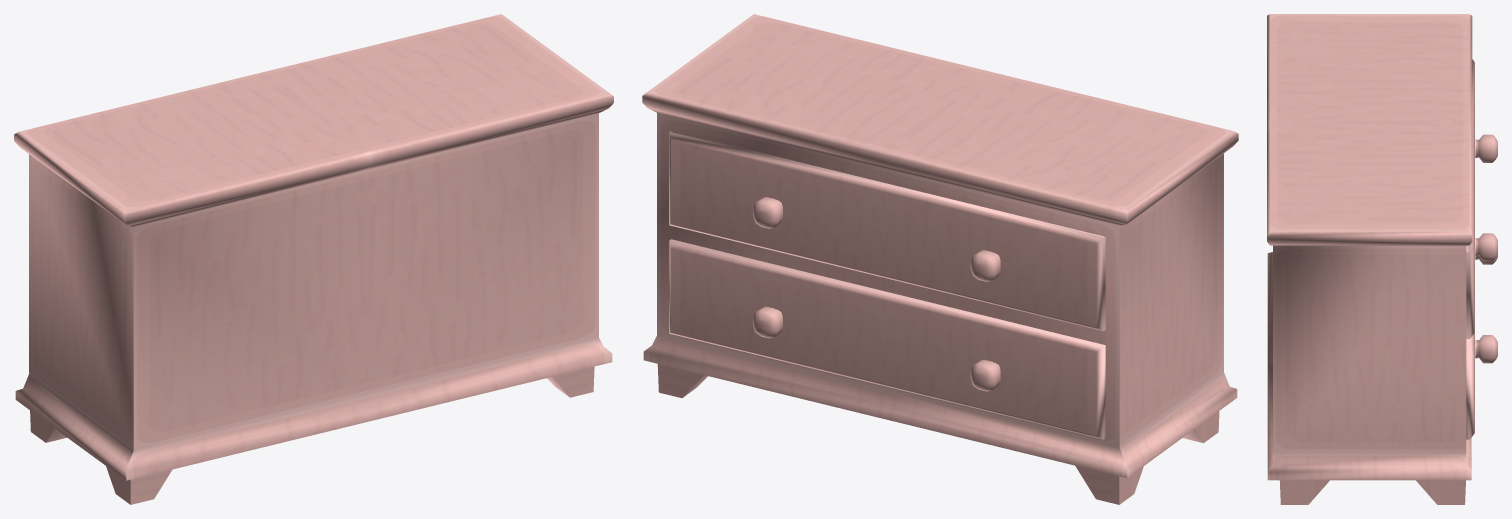
File: Anim.fbx
3 renders of one model, left to right at view 1: azimuth 30°, elevation 25°; view 2: azimuth 150°, elevation 25°; view 3: azimuth 270°, elevation 25°, orthographic. The views are drawn at different scales.
Parts seen in each view (by area): view 1: Drawers; view 2: Drawers, Draw; view 3: Drawers, Draw.
Part boxes in pixels (box(x1,y1,x2,y2)): Drawers: box(14, 14, 613, 504); Drawers: box(642, 14, 1238, 504); Draw: box(669, 131, 1105, 331); Drawers: box(1267, 14, 1497, 504); Draw: box(1466, 59, 1497, 338).
Size of the model in its own units: 2.88 by 1.7 by 1.28.
Materials: 1 (1 with a texture image).
